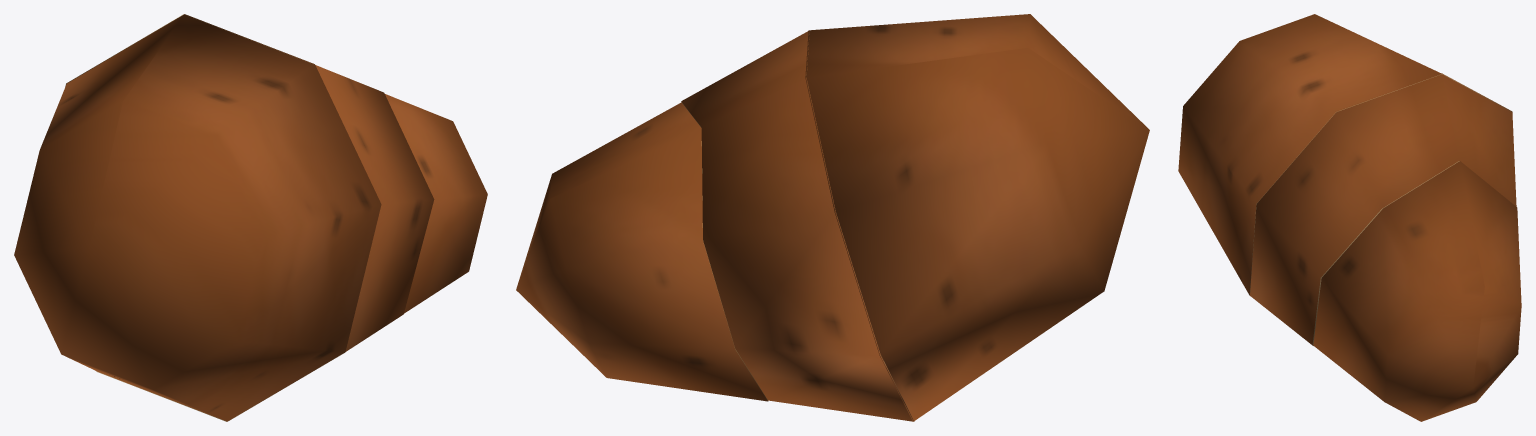
The model's file is Potato_slice.fbx.
The picture shows the model from 3 angles, left to right: view 1: azimuth 30°, elevation 25°; view 2: azimuth 150°, elevation 25°; view 3: azimuth 270°, elevation 25°; orthographic projection. The views are drawn at different scales.
Visible parts, largest first — view 1: Potato_01, Potato_02, Potato_03; view 2: Potato_01, Potato_02, Potato_03; view 3: Potato_03, Potato_02, Potato_01.
Boxes of the visible parts, left/top/right/bottom form: Potato_01: left=14, top=14, right=381, bottom=421; Potato_02: left=65, top=14, right=434, bottom=421; Potato_03: left=385, top=94, right=487, bottom=313; Potato_01: left=805, top=14, right=1149, bottom=421; Potato_02: left=681, top=31, right=914, bottom=421; Potato_03: left=516, top=102, right=768, bottom=401; Potato_03: left=1313, top=161, right=1521, bottom=421; Potato_02: left=1250, top=73, right=1516, bottom=345; Potato_01: left=1178, top=14, right=1512, bottom=295.
Size of the model in its own units: 22.92 by 15.57 by 17.42.
